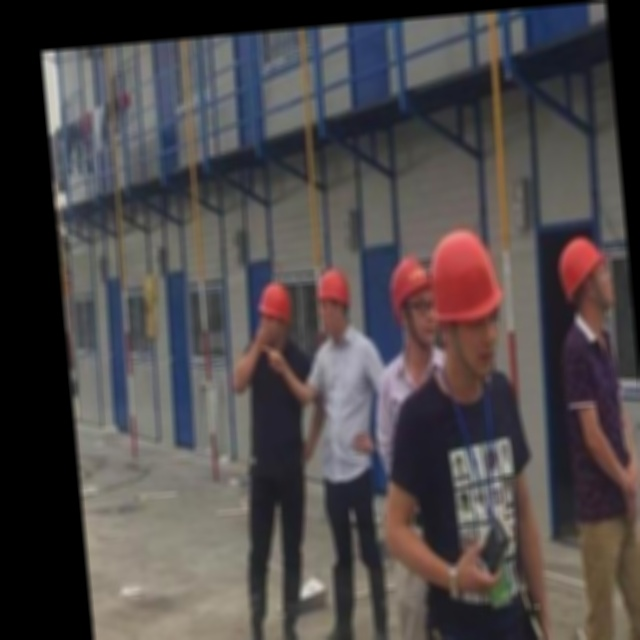Con_Casco: (428, 232, 505, 361), (253, 279, 294, 353), (314, 267, 354, 336)
